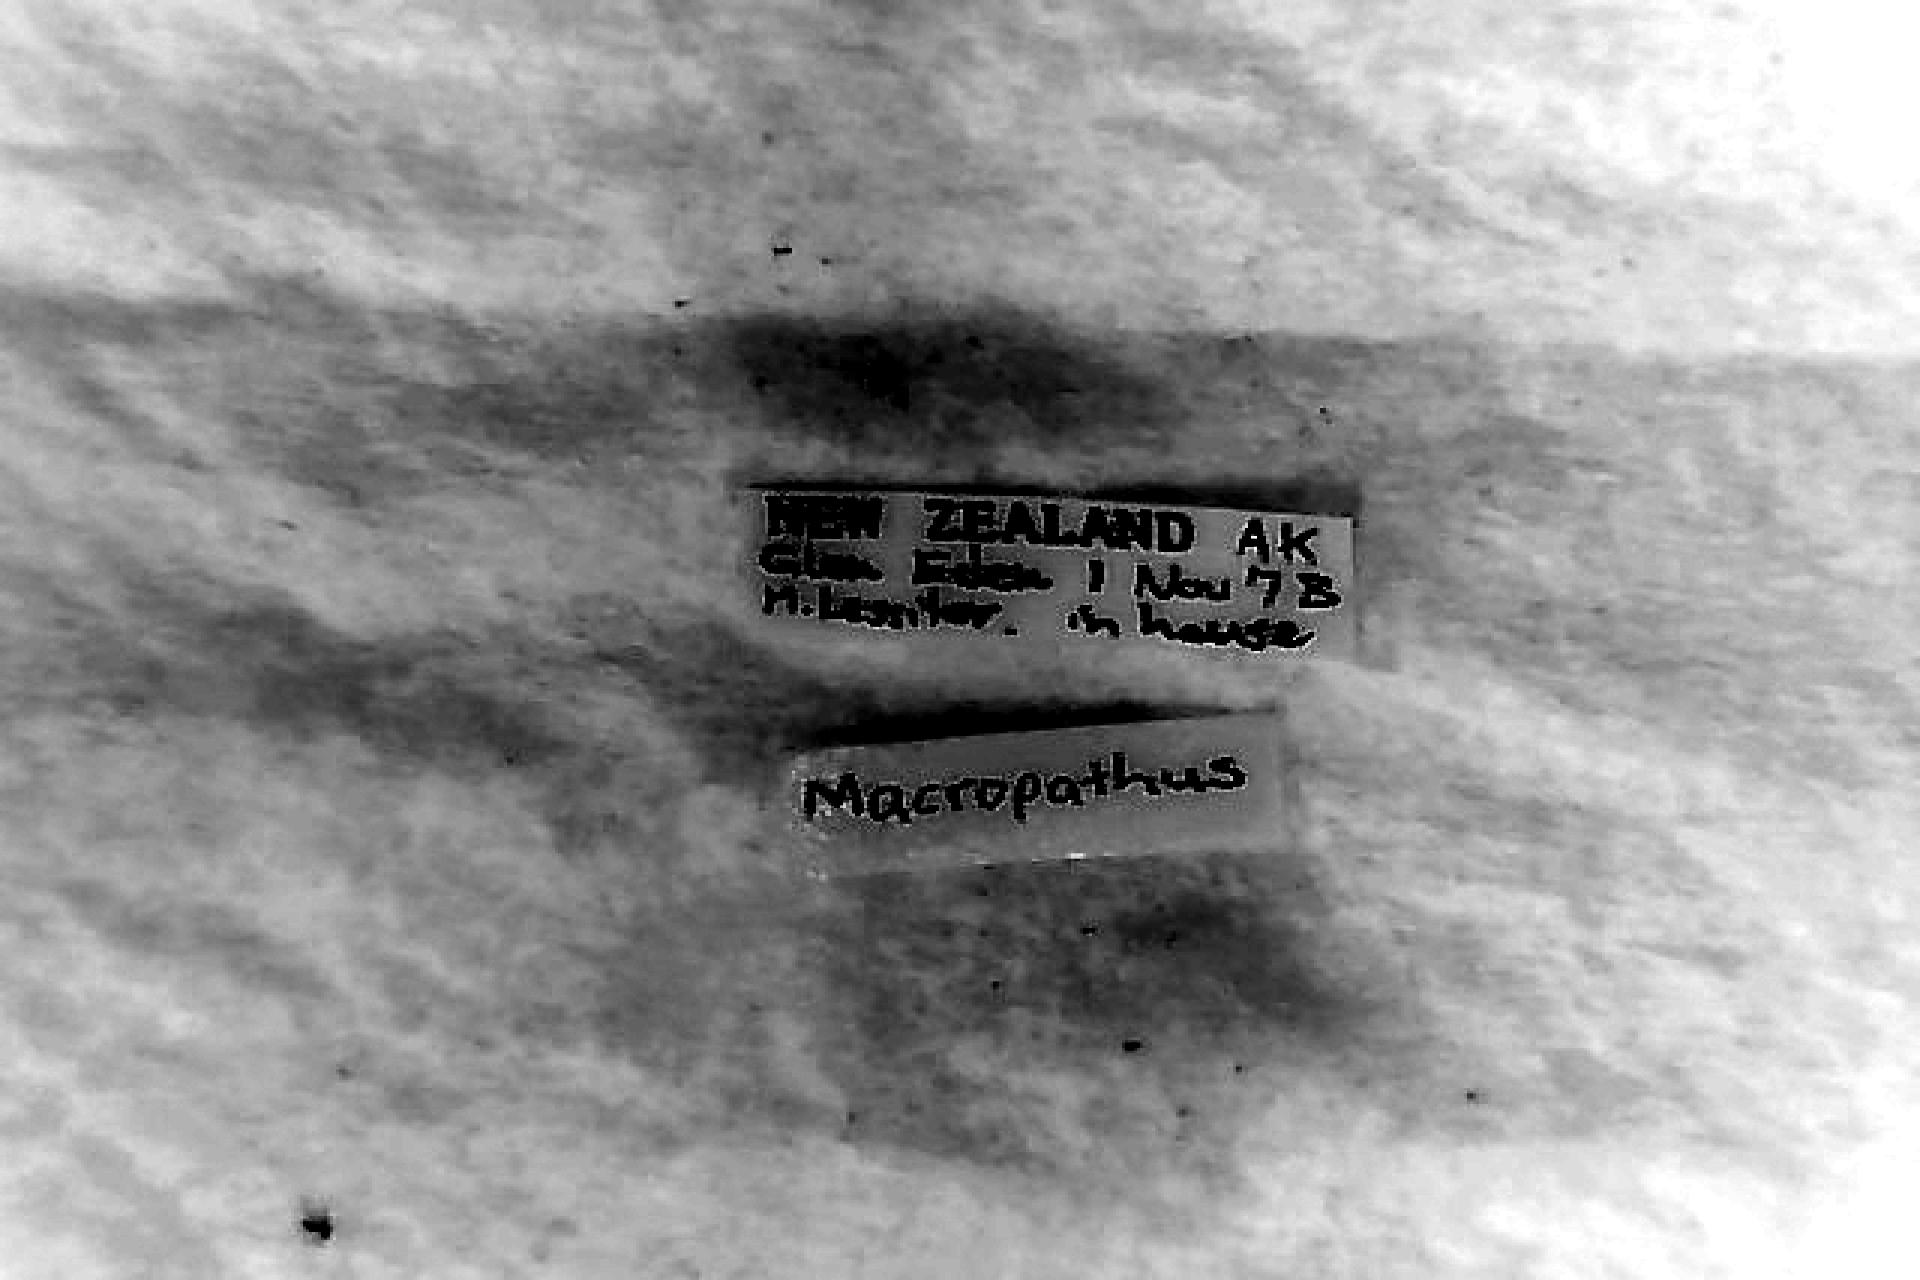hand_label: (784, 713, 1280, 874)
mixed_label: (739, 483, 1357, 657)
